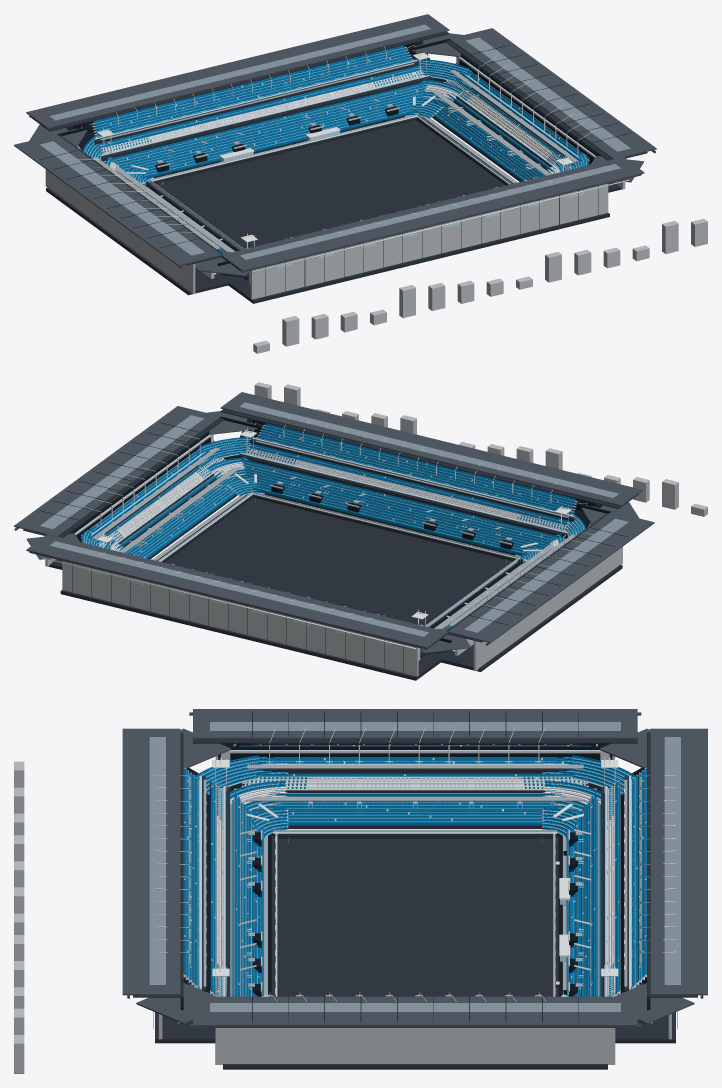
The model's file is premium-bowl-stadium.glb.
The picture shows the model from 3 angles, top to bottom: view 1: azimuth 30°, elevation 25°; view 2: azimuth 150°, elevation 25°; view 3: azimuth 270°, elevation 25°; orthographic projection. The views are drawn at different scales.
Visible parts, largest first — view 1: service_ring_inner_shadow, north_main_rear_wall, south_main_roof_canopy, north_main_roof_canopy, west_goal_roof_canopy, east_goal_roof_canopy, south_main_club_primary_individual_backs, south_main_club_primary_individual_seats, west_goal_rear_wall, south_main_roof_glass_strip, north_main_roof_glass_strip, north_main_lower_structural_shadow (+41 smaller); view 2: service_ring_inner_shadow, south_main_rear_wall, north_main_roof_canopy, south_main_roof_canopy, west_goal_roof_canopy, east_goal_roof_canopy, north_main_club_primary_individual_backs, north_main_club_primary_individual_seats, west_goal_rear_wall, north_main_roof_glass_strip, south_main_roof_glass_strip, south_main_lower_structural_shadow (+49 smaller); view 3: service_ring_inner_shadow, east_goal_rear_wall, north_main_roof_canopy, south_main_roof_canopy, east_goal_roof_canopy, west_goal_roof_canopy, north_main_roof_glass_strip, south_main_roof_glass_strip, north_main_club_primary_individual_seats, west_goal_roof_glass_strip, east_goal_roof_glass_strip, south_main_club_primary_individual_seats (+61 smaller).
Part boxes in pixels (bbox=[...]): service_ring_inner_shadow: bbox=[152, 120, 505, 249]; north_main_rear_wall: bbox=[250, 183, 608, 299]; south_main_roof_canopy: bbox=[26, 14, 449, 128]; north_main_roof_canopy: bbox=[221, 157, 644, 271]; west_goal_roof_canopy: bbox=[14, 134, 221, 265]; east_goal_roof_canopy: bbox=[449, 28, 656, 159]; south_main_club_primary_individual_backs: bbox=[94, 46, 428, 176]; south_main_club_primary_individual_seats: bbox=[95, 47, 427, 174]; west_goal_rear_wall: bbox=[45, 169, 195, 294]; south_main_roof_glass_strip: bbox=[49, 24, 430, 120]; north_main_roof_glass_strip: bbox=[240, 164, 620, 259]; north_main_lower_structural_shadow: bbox=[228, 213, 609, 303]; service_ring_inner_shadow: bbox=[165, 498, 516, 626]; south_main_rear_wall: bbox=[62, 561, 418, 676]; north_main_roof_canopy: bbox=[220, 392, 642, 505]; south_main_roof_canopy: bbox=[26, 534, 447, 648]; west_goal_roof_canopy: bbox=[448, 512, 654, 642]; east_goal_roof_canopy: bbox=[14, 406, 220, 536]; north_main_club_primary_individual_backs: bbox=[241, 424, 573, 551]; north_main_club_primary_individual_seats: bbox=[242, 425, 573, 552]; west_goal_rear_wall: bbox=[473, 546, 622, 671]; north_main_roof_glass_strip: bbox=[239, 402, 618, 497]; south_main_roof_glass_strip: bbox=[49, 541, 429, 636]; south_main_lower_structural_shadow: bbox=[60, 590, 440, 680]; service_ring_inner_shadow: bbox=[278, 838, 552, 996]; east_goal_rear_wall: bbox=[215, 1028, 615, 1064]; north_main_roof_canopy: bbox=[122, 728, 180, 995]; south_main_roof_canopy: bbox=[650, 728, 707, 995]; east_goal_roof_canopy: bbox=[193, 996, 637, 1026]; west_goal_roof_canopy: bbox=[193, 709, 637, 738]; north_main_roof_glass_strip: bbox=[149, 737, 165, 984]; south_main_roof_glass_strip: bbox=[664, 737, 680, 984]; north_main_club_primary_individual_seats: bbox=[184, 769, 262, 996]; west_goal_roof_glass_strip: bbox=[210, 722, 620, 730]; east_goal_roof_glass_strip: bbox=[210, 1003, 620, 1011]; south_main_club_primary_individual_seats: bbox=[568, 769, 645, 996].
Size of the model in its own units: 200 by 19.81 by 186.
